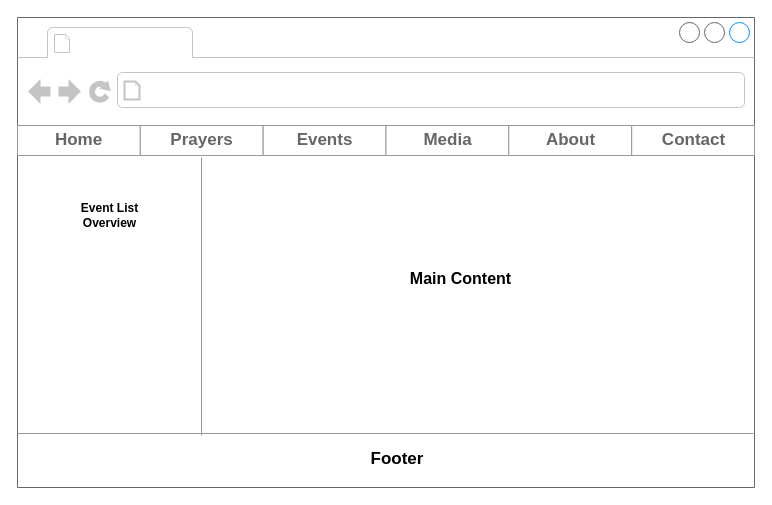
Image size: 772x505. Some labels were removed from this diagram. The centre of each missing label's shape, as x and y in pixels:
"https://temple.co.za" goes at (272,90).
"Temple" goes at (132,42).
